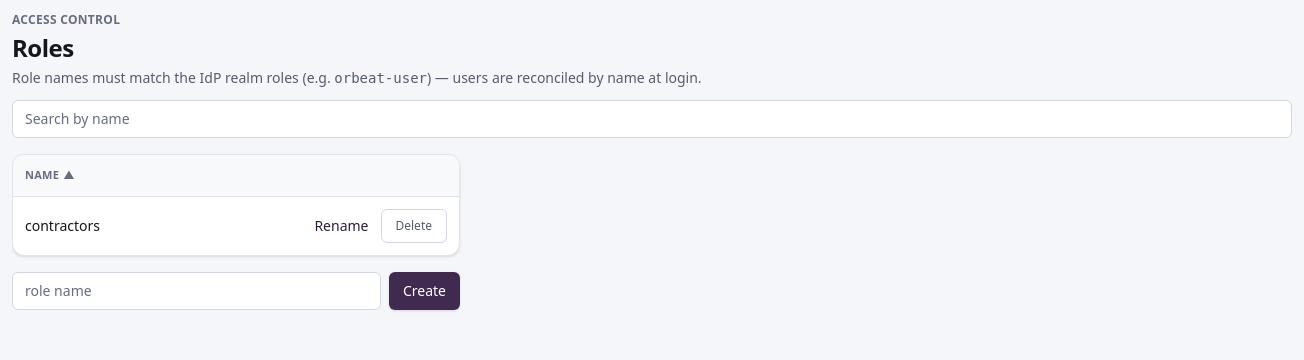
Test: 409 name collision renders the API message inline, offering no checkbox
The width and height of the screenshot is (1304, 360).
Click the button with aria-label "Rename contractors".
click(341, 226)  # box [314,216,368,236]
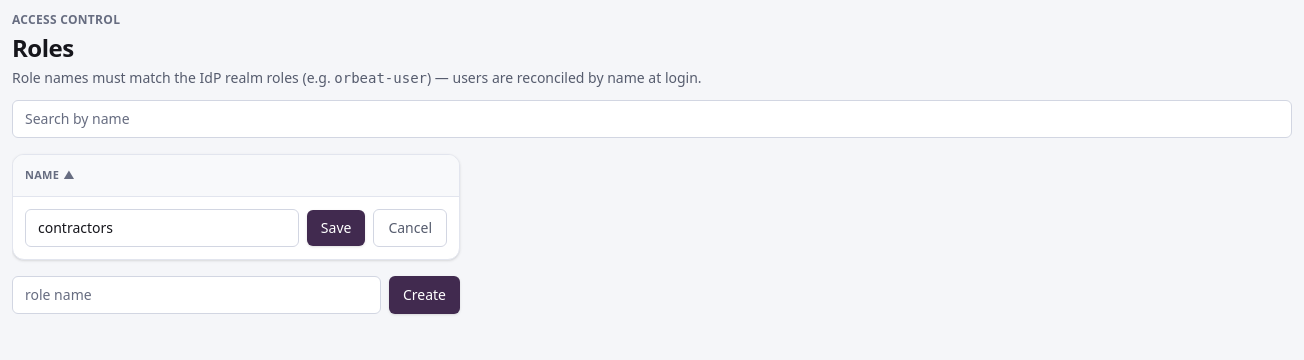
Replace the text in the field named "New name for contractors" with "orbeat-admin" at (162, 228), box [25,208,299,246]
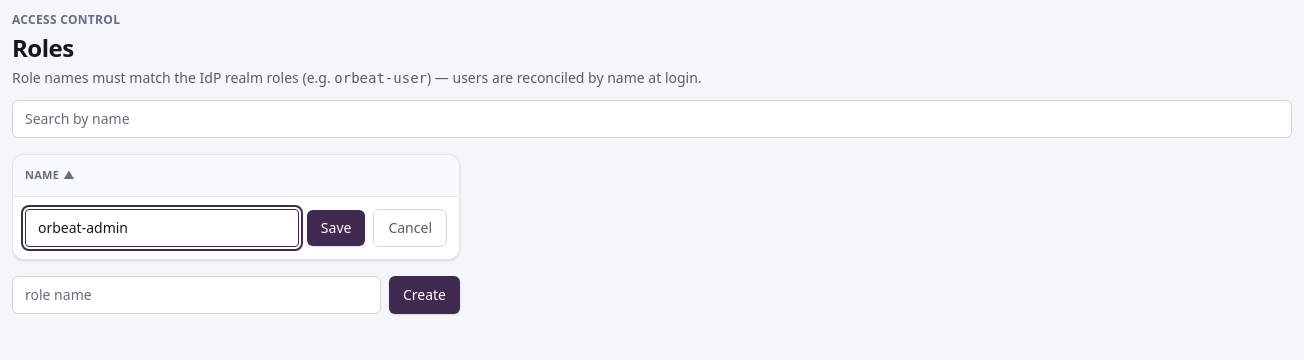
Click the button "Save".
click(336, 228)  # box [307,210,365,246]
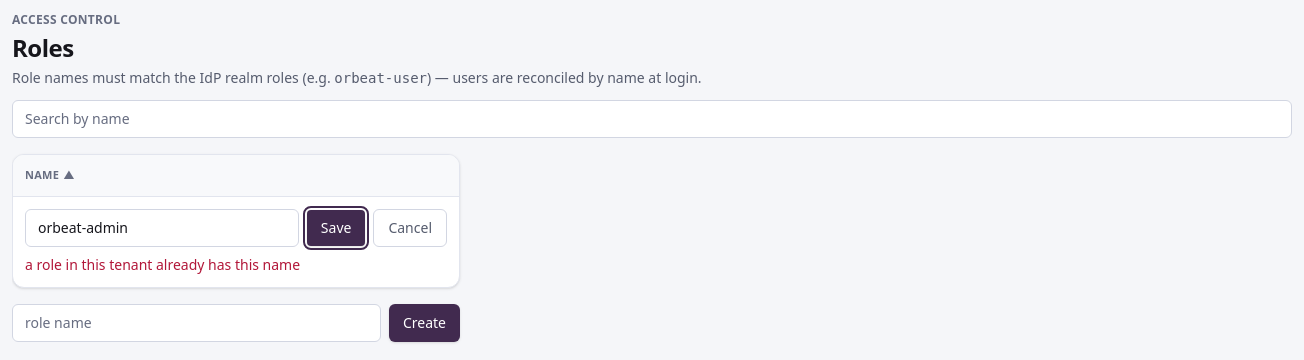
Expected: the text "a role in this tenant already has this name" is shown, [25,254,300,274]
